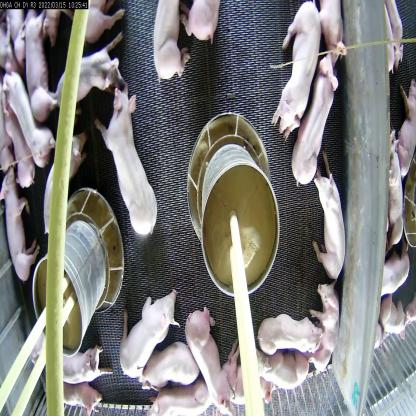Pig: (93, 77, 160, 238), (290, 44, 339, 196), (270, 3, 322, 143), (116, 284, 184, 382), (16, 4, 63, 125), (309, 144, 349, 282), (184, 304, 233, 416), (42, 127, 88, 246), (51, 33, 124, 104), (29, 324, 112, 385), (1, 162, 42, 284), (224, 334, 280, 412), (138, 335, 202, 394), (152, 4, 195, 81), (256, 310, 324, 358), (313, 0, 352, 77), (311, 277, 338, 371), (52, 368, 104, 413)
